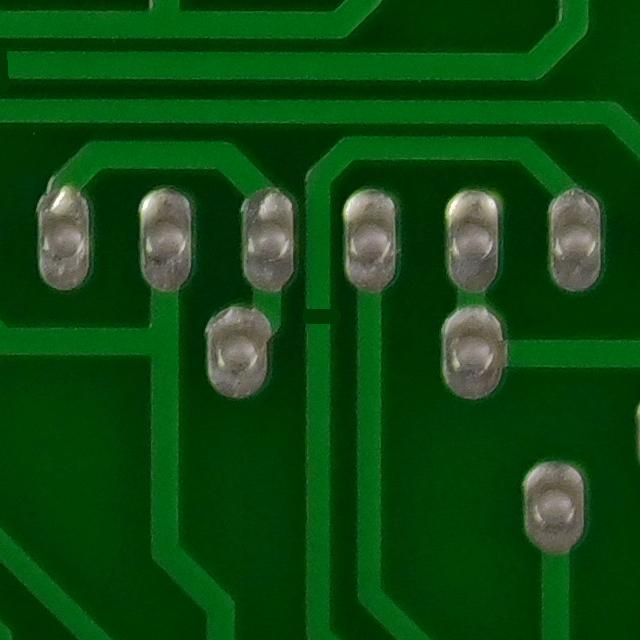open_circuit: (298, 293, 343, 347)
